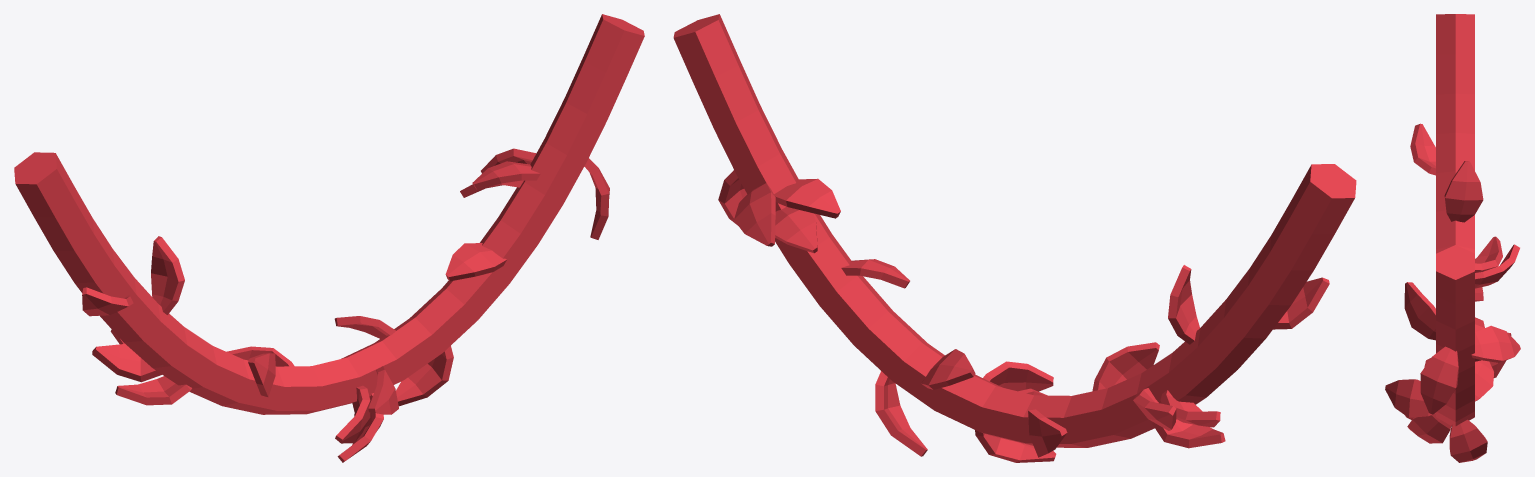
The model's file is vine_curve.fbx.
3 renders of one model, left to right at view 1: azimuth 30°, elevation 25°; view 2: azimuth 150°, elevation 25°; view 3: azimuth 270°, elevation 25°, orthographic. The views are drawn at different scales.
Parts seen in each view (by area): view 1: Cylinder, Plane; view 2: Cylinder, Plane; view 3: Cylinder, Plane.
Part boxes in pixels (bbox=[...]): Cylinder: bbox=[14, 14, 644, 414]; Plane: bbox=[82, 148, 609, 462]; Cylinder: bbox=[673, 14, 1356, 447]; Plane: bbox=[718, 170, 1329, 462]; Cylinder: bbox=[1436, 14, 1474, 426]; Plane: bbox=[1385, 123, 1520, 462].
Size of the model in its own units: 456 by 248 by 98.93.
